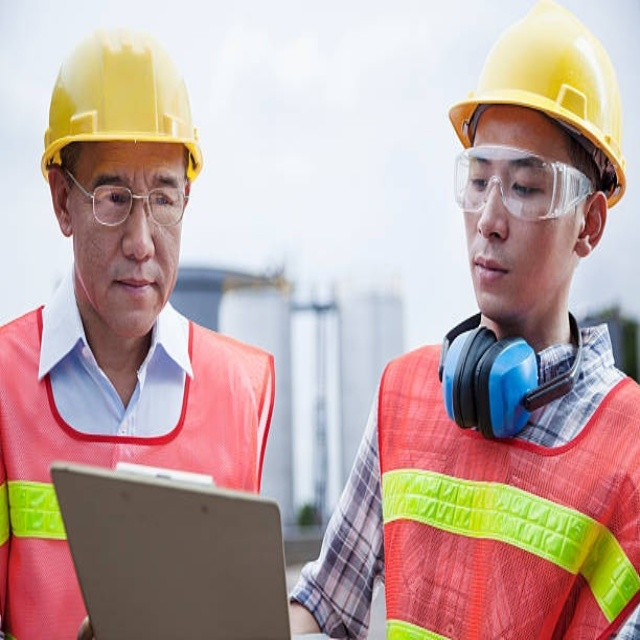Gafas: (452, 141, 593, 221), (61, 165, 192, 226)
Sin_mascara: (102, 264, 165, 326), (468, 248, 518, 311)
